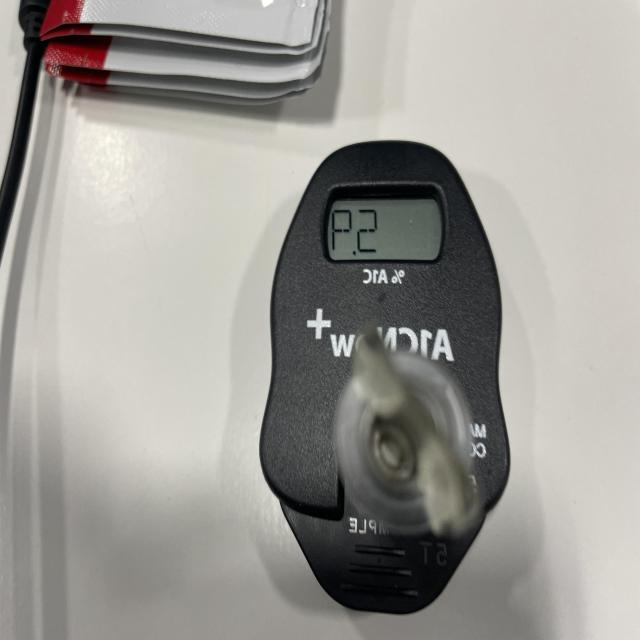hba1c: (257, 142, 512, 618)
